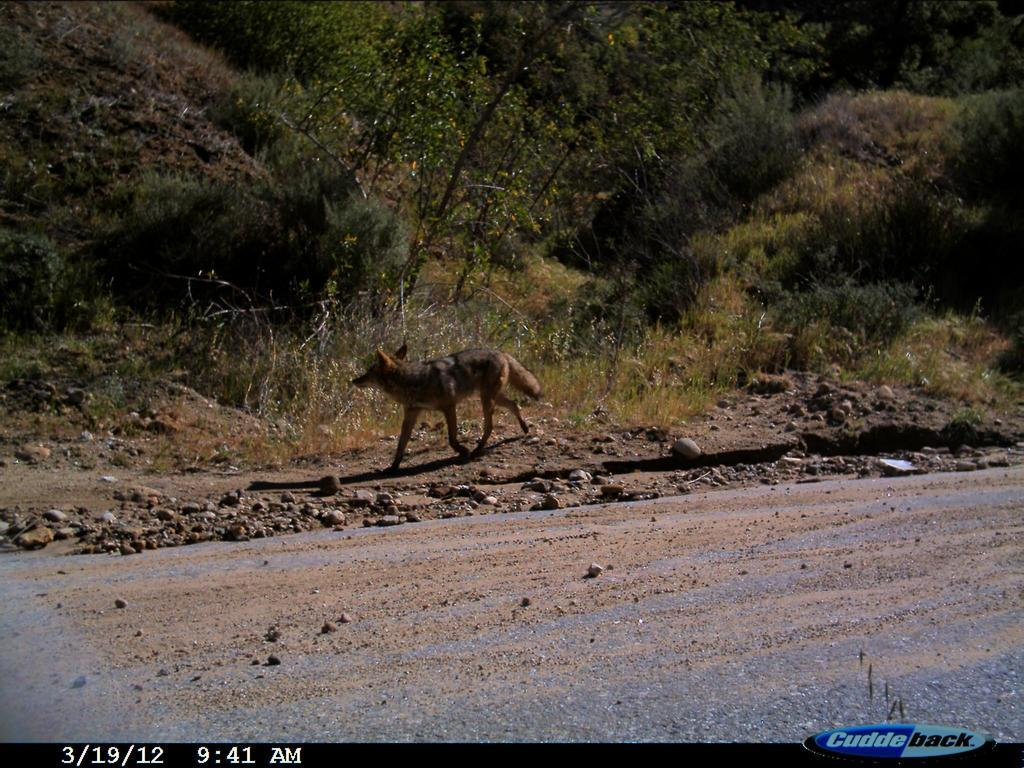coyote: (349, 338, 547, 479)
